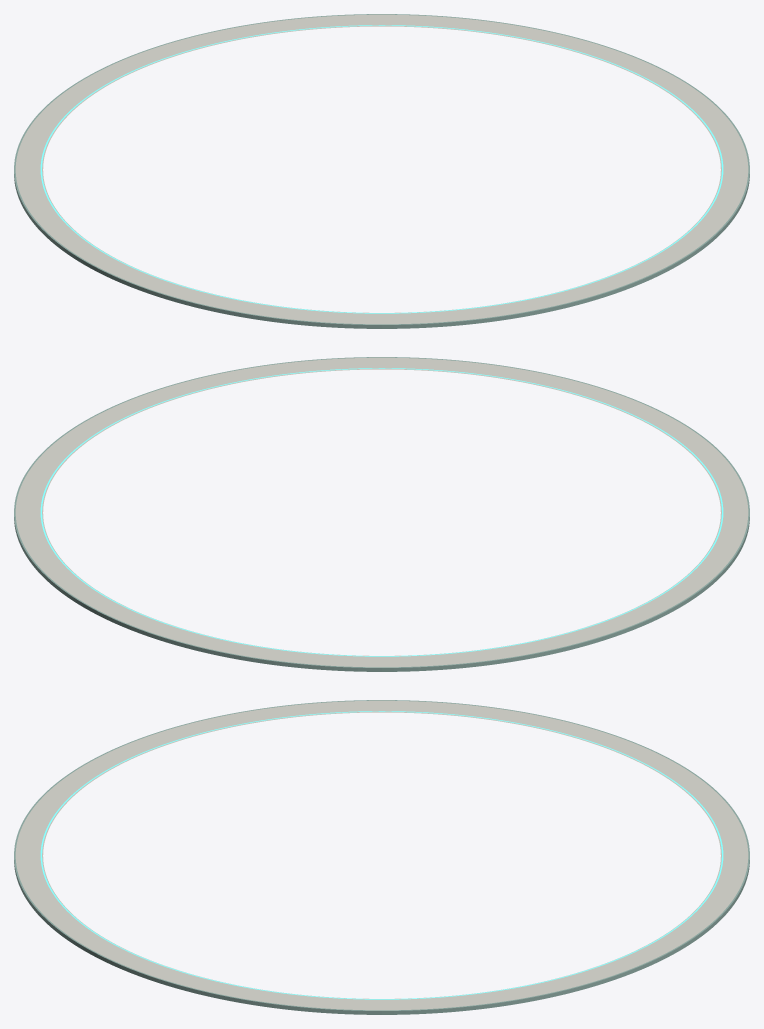
The model's file is s7-master-g01-edge-finish.glb.
3 renders of one model, top to bottom at view 1: azimuth 30°, elevation 25°; view 2: azimuth 150°, elevation 25°; view 3: azimuth 270°, elevation 25°, orthographic.
Parts seen in each view (by area): view 1: G01.finish.smooth-circular-pad-edge; view 2: G01.finish.smooth-circular-pad-edge; view 3: G01.finish.smooth-circular-pad-edge.
Part boxes in pixels (x1,y1,x2,y2): G01.finish.smooth-circular-pad-edge: (14,14,749,328); G01.finish.smooth-circular-pad-edge: (14,357,749,671); G01.finish.smooth-circular-pad-edge: (14,700,749,1014).
Bounding box in the file's own units: 34.86 × 0.211 × 34.86.
